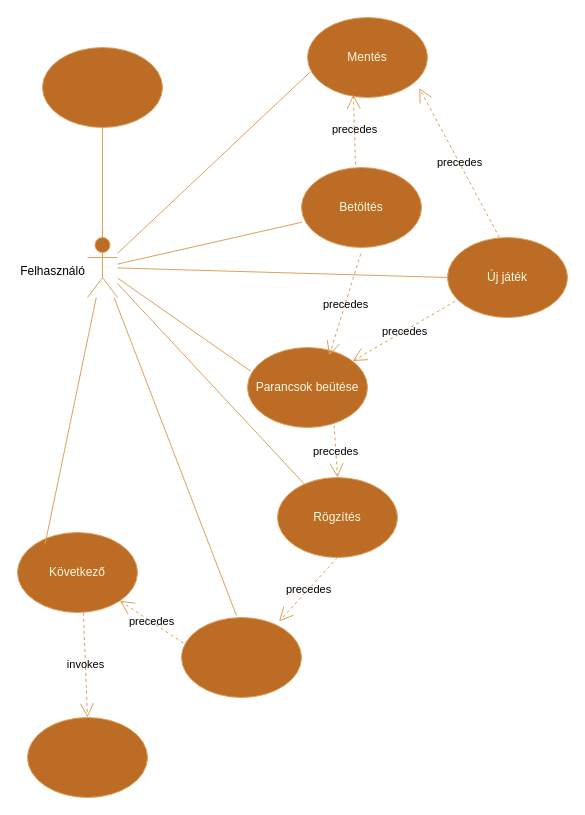
Some shapes in this 585 by 815 pixel diagram are drawn without their labels. Each missing label, with the centre of its shape:
"Játék vége" goes at (x=87, y=757).
"Kezdés" goes at (x=241, y=657).
"Kilépés" goes at (x=102, y=87).
